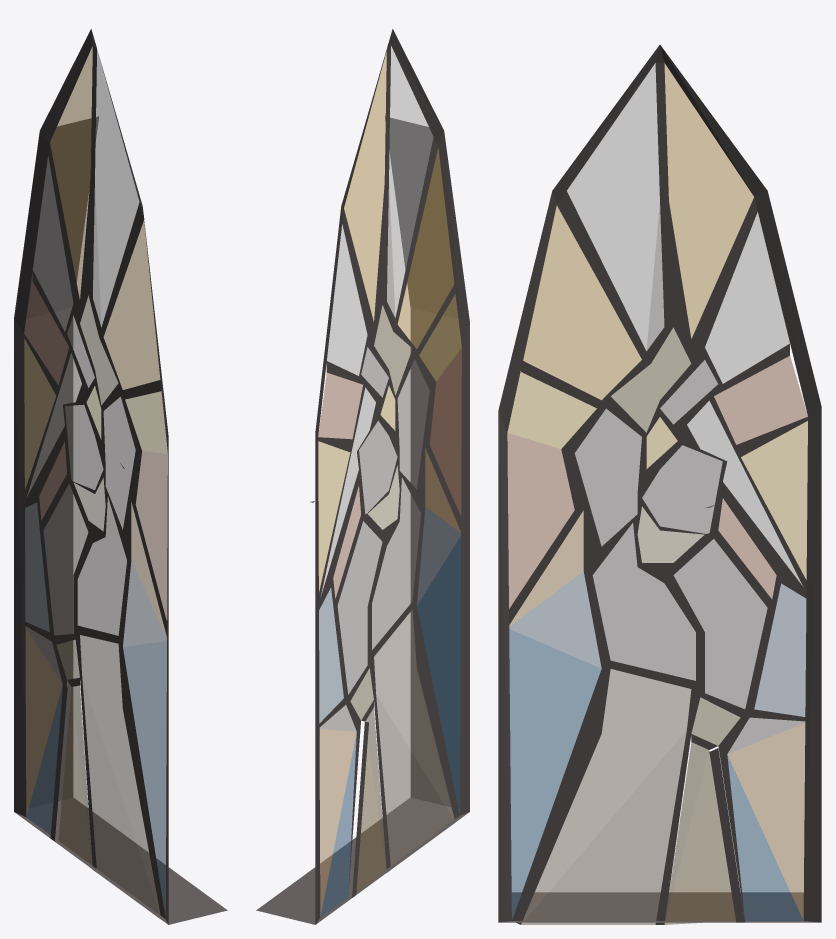
3 views of the same model, side by side, from view 1: azimuth 30°, elevation 25°; view 2: azimuth 150°, elevation 25°; view 3: azimuth 270°, elevation 25° (orthographic). The views are drawn at different scales.
Size of the model in its own units: 16 by 217 by 72.
Materials: 2 (2 with a texture image).
